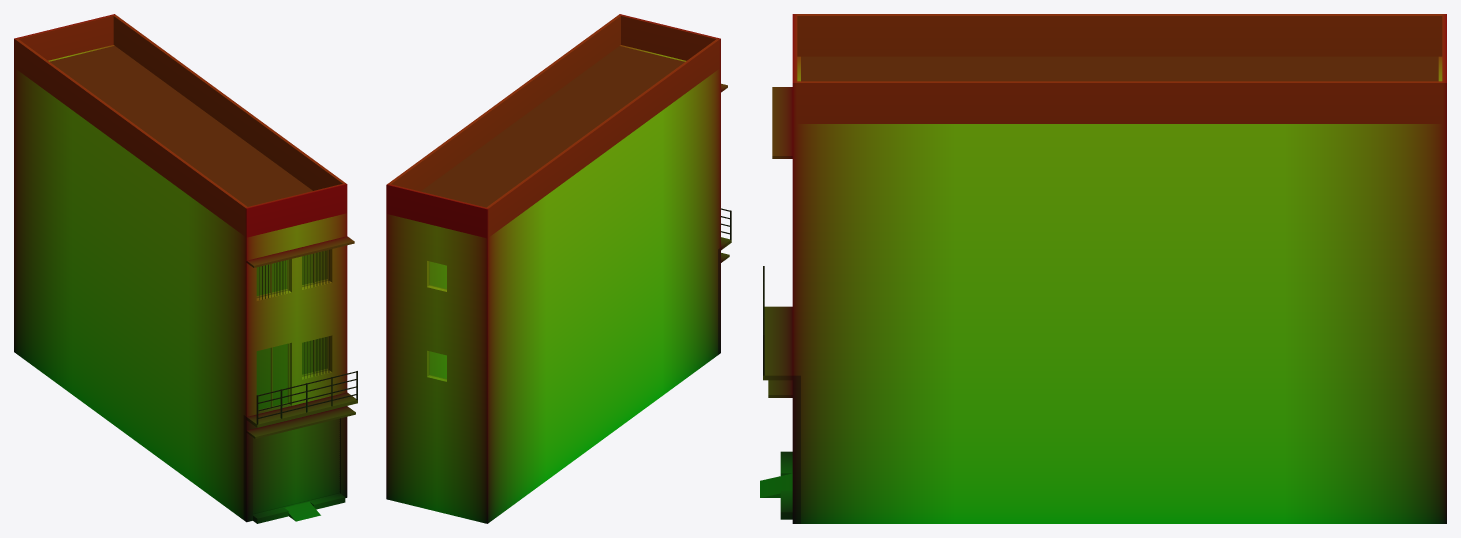
Rendered from nha_ong_4x16.glb.
3 views of the same model, side by side, from view 1: azimuth 30°, elevation 25°; view 2: azimuth 150°, elevation 25°; view 3: azimuth 270°, elevation 25° (orthographic). The views are drawn at different scales.
Parts seen in each view (by area): view 1: nha_ong_4x16, shutter_nha_ong_4x16; view 2: nha_ong_4x16; view 3: nha_ong_4x16.
Part boxes in pixels (box(x1,y1,x2,y2)): nha_ong_4x16: box(14, 14, 357, 523); shutter_nha_ong_4x16: box(253, 418, 339, 514); nha_ong_4x16: box(386, 14, 731, 523); nha_ong_4x16: box(760, 14, 1446, 523).
Size of what is drawn, in the model's own units: 4 by 11.9 by 16.8.
